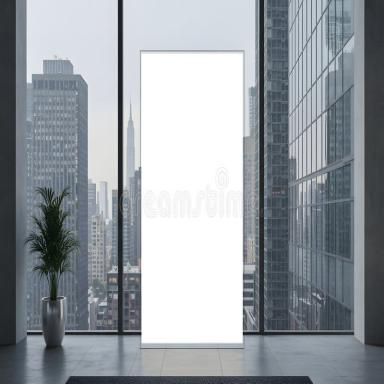glass_panel: (30, 3, 116, 327), (291, 0, 354, 328)
